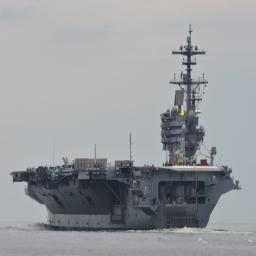Portanaves: (9, 20, 244, 232)
